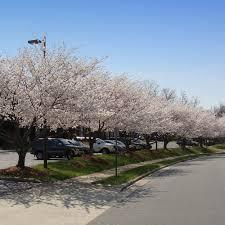tree: (1, 55, 69, 173), (65, 72, 118, 159)
